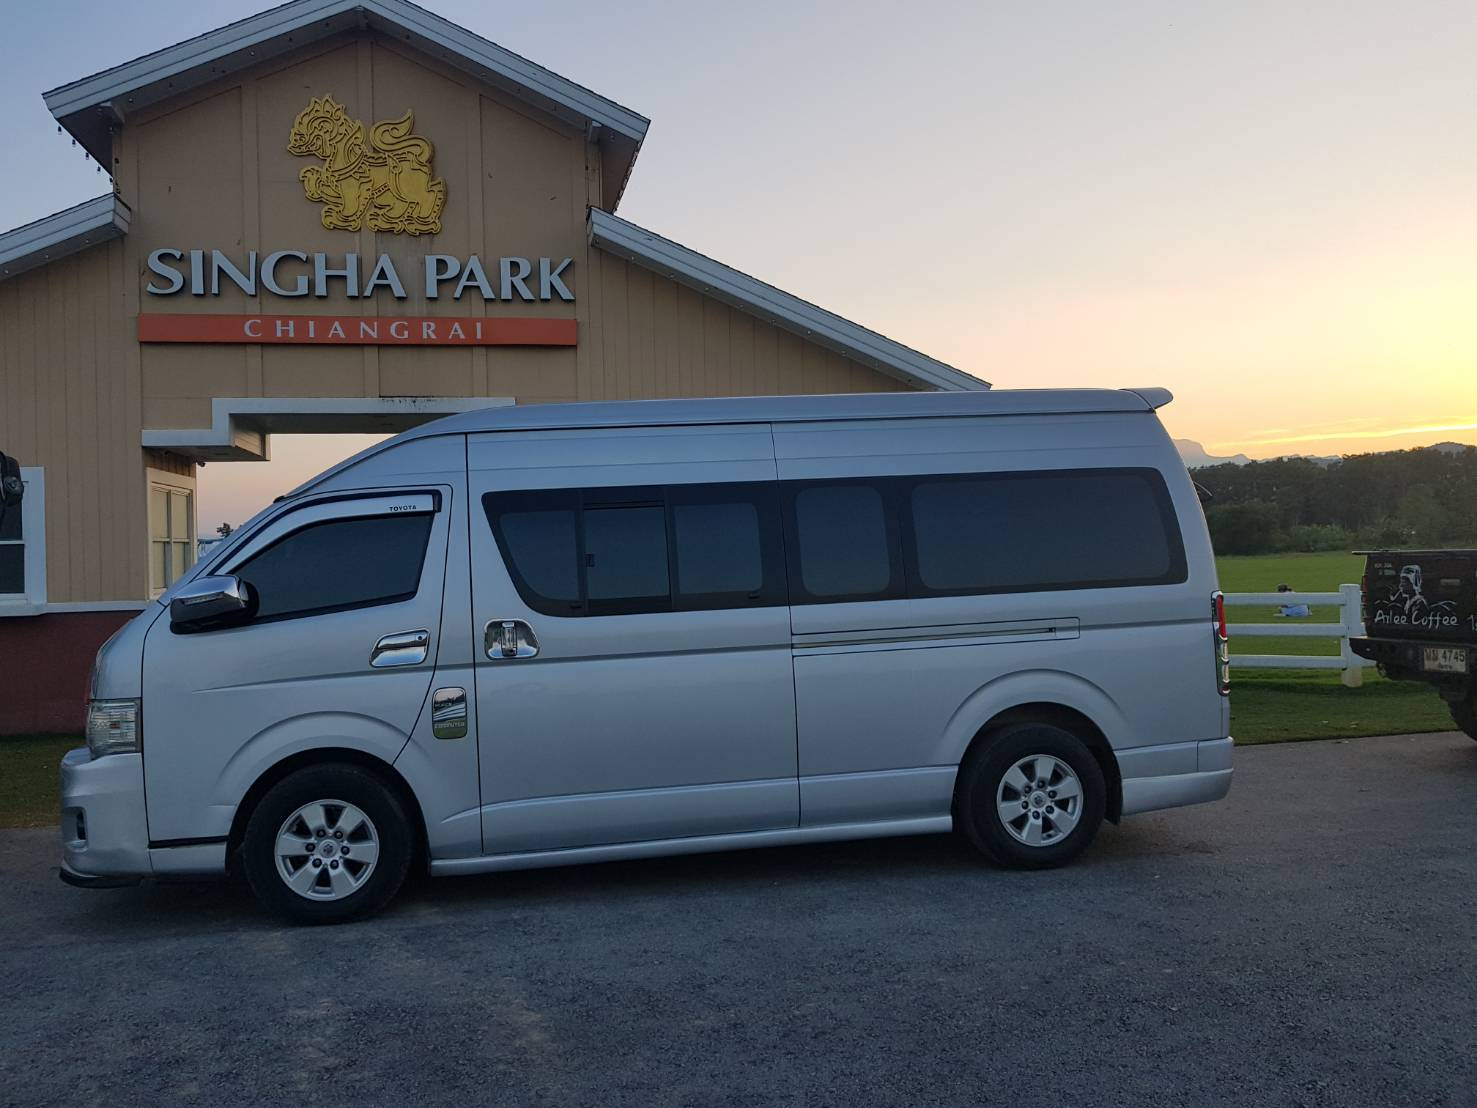van: (49, 379, 1244, 924)
